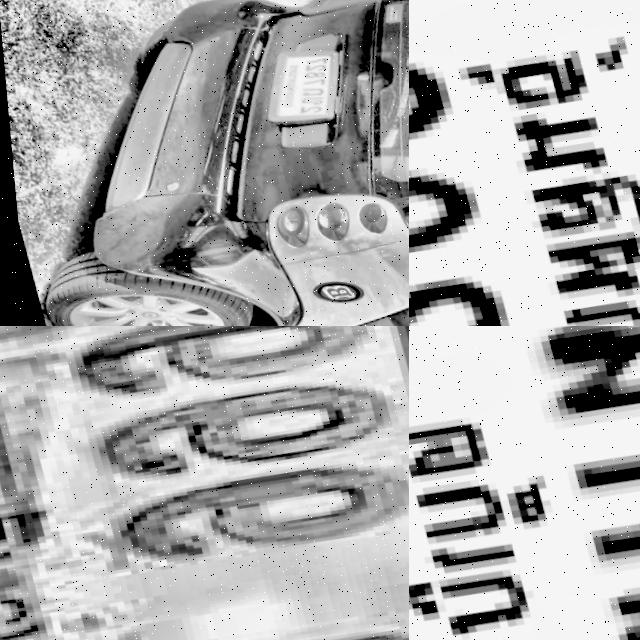license-plate: (0, 326, 409, 640), (409, 0, 640, 326), (409, 326, 640, 640), (243, 38, 354, 133)
